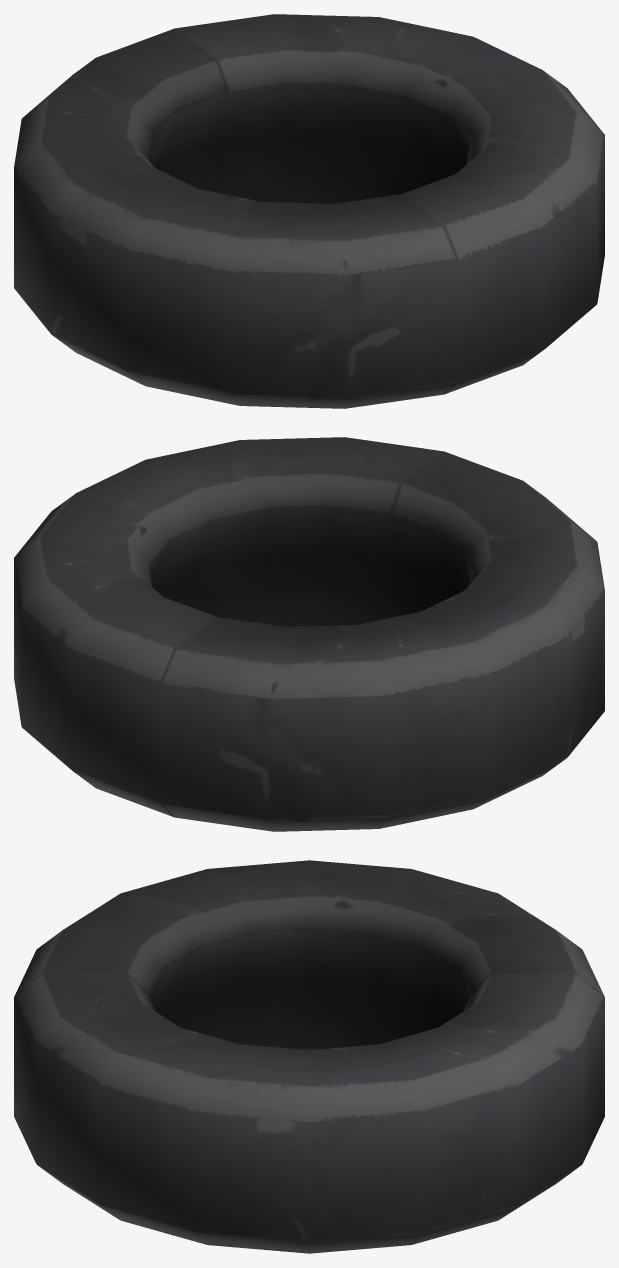
The model's file is tire.obj.
3 views of the same model, one above another, from view 1: azimuth 30°, elevation 25°; view 2: azimuth 150°, elevation 25°; view 3: azimuth 270°, elevation 25° (orthographic).
Parts seen in each view (by area): view 1: Tire; view 2: Tire; view 3: Tire.
Boxes of the visible parts, x1,y1,x2,y2 form: Tire: (14, 14, 604, 408); Tire: (14, 437, 604, 831); Tire: (14, 860, 604, 1253).
Size of the model in its own units: 1.11 by 0.3464 by 1.11.
Materials: 1 (1 with a texture image).
